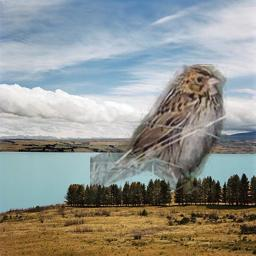Sparrow: (90, 64, 227, 194)
